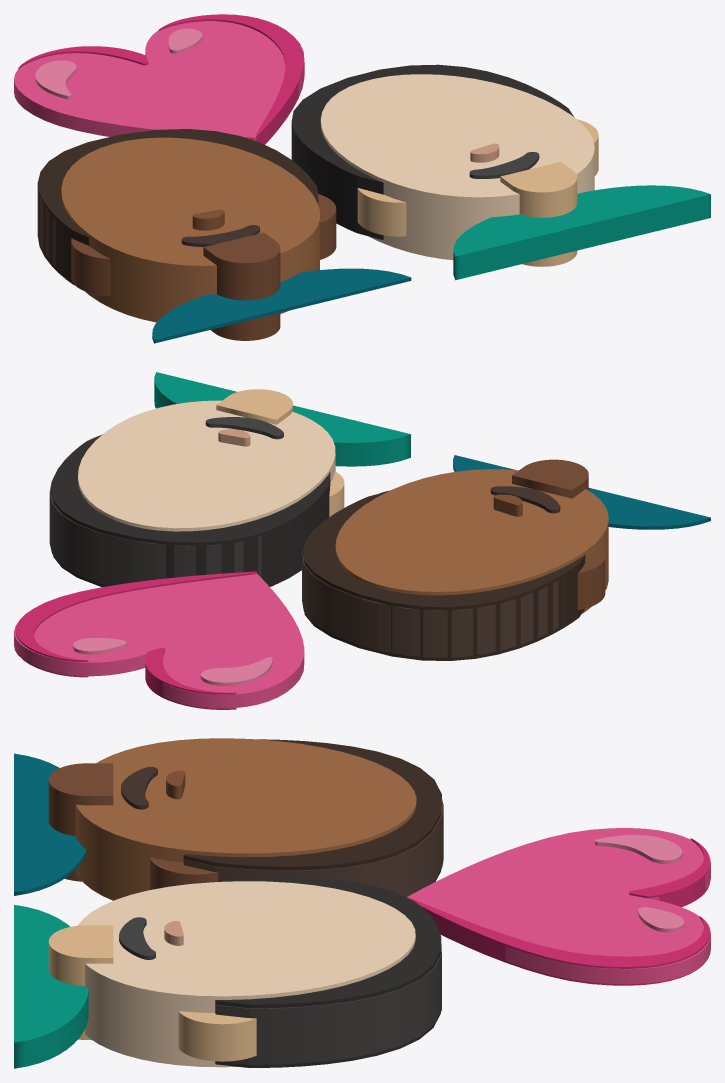
File: emoji_u1f468_1f3fe_200d_2764_200d_1f468_1f3fb.glb
3 views of the same model, one above another, from view 1: azimuth 30°, elevation 25°; view 2: azimuth 150°, elevation 25°; view 3: azimuth 270°, elevation 25° (orthographic). The views are drawn at different scales.
Visible parts, largest first — view 1: emoji_u1f468_1f3fe_200d_2764_200d_1f468_1f3fb; view 2: emoji_u1f468_1f3fe_200d_2764_200d_1f468_1f3fb; view 3: emoji_u1f468_1f3fe_200d_2764_200d_1f468_1f3fb.
Boxes of the visible parts, x1,y1,x2,y2 form: emoji_u1f468_1f3fe_200d_2764_200d_1f468_1f3fb: (14,14,710,343); emoji_u1f468_1f3fe_200d_2764_200d_1f468_1f3fb: (14,372,710,709); emoji_u1f468_1f3fe_200d_2764_200d_1f468_1f3fb: (14,738,710,1068).
Bounding box in the file's own units: 0.0345 × 0.005 × 0.0338.
